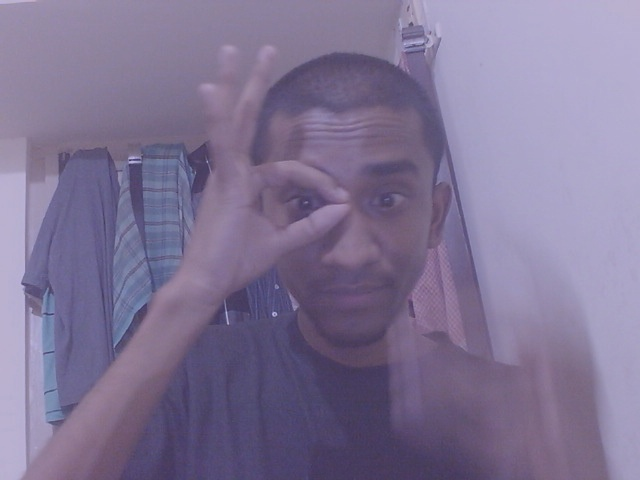hand: (173, 43, 355, 302)
